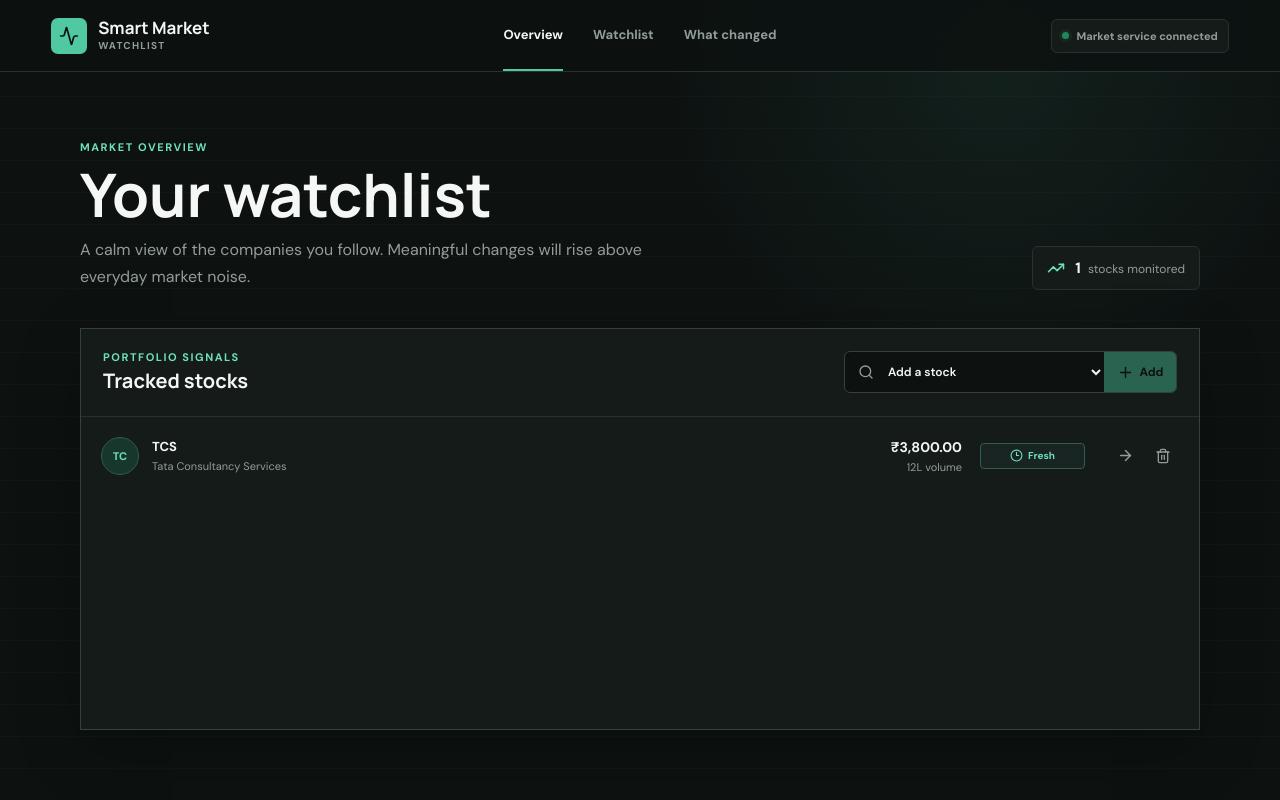
Scenario: App foundation › removes a stock through the API and refreshes the list
Click the button named "Remove TCS from watchlist": (1163, 456) [1147,440,1179,472]
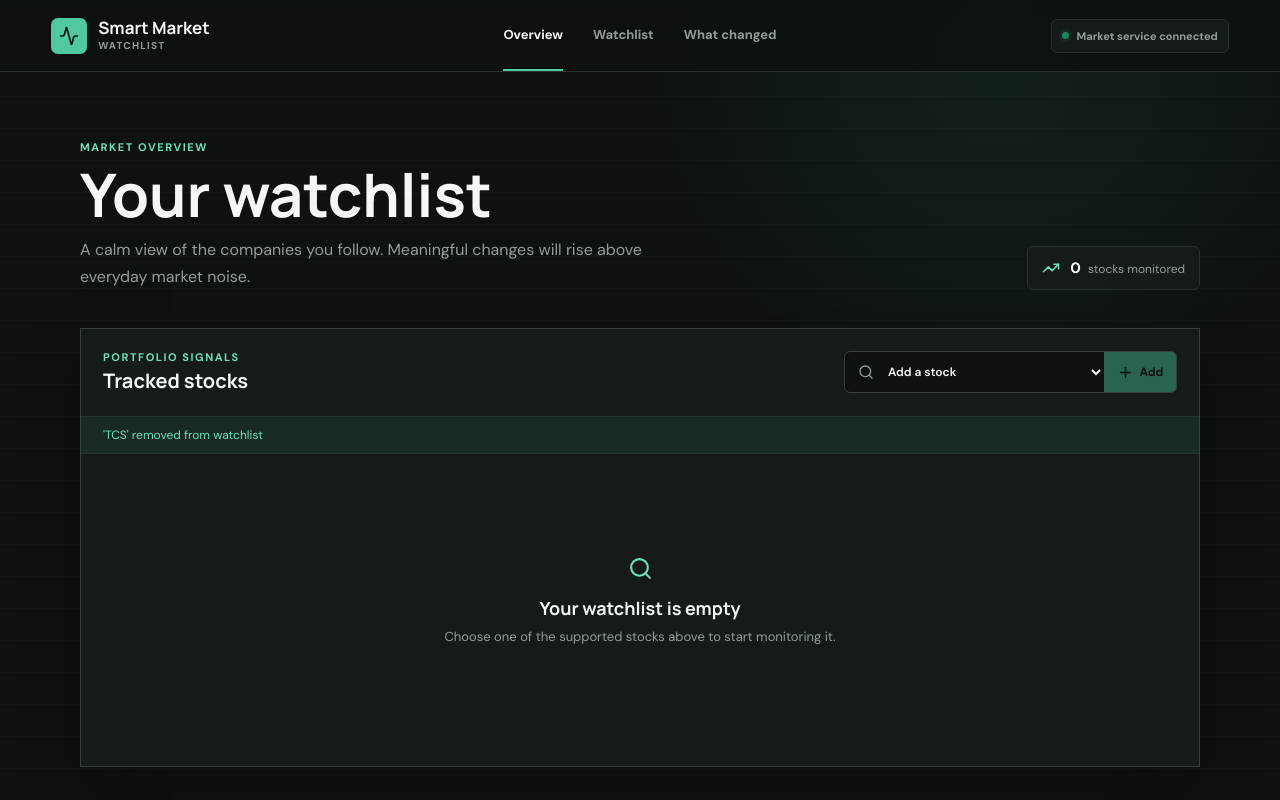
Expected: the text "'TCS' removed from watchlist" is shown, [81,417,1199,454]
Expected: the heading "Your watchlist is empty" is shown, [540,596,740,620]
